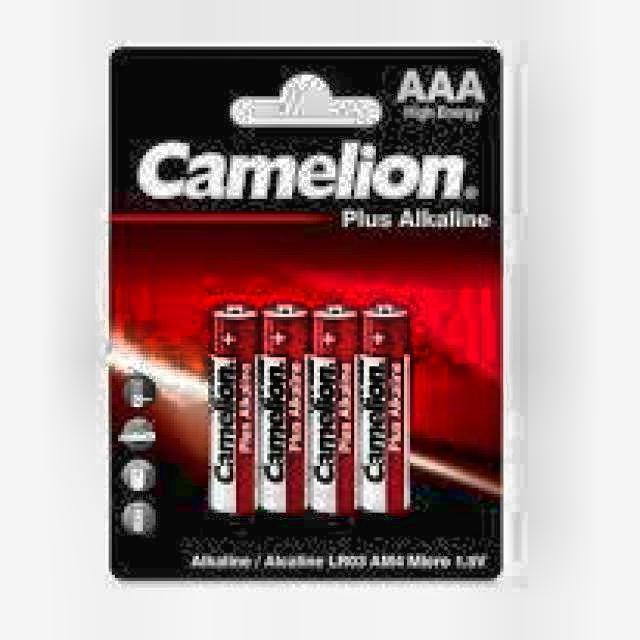battery: (112, 47, 500, 575), (261, 304, 312, 513), (207, 305, 256, 515)
